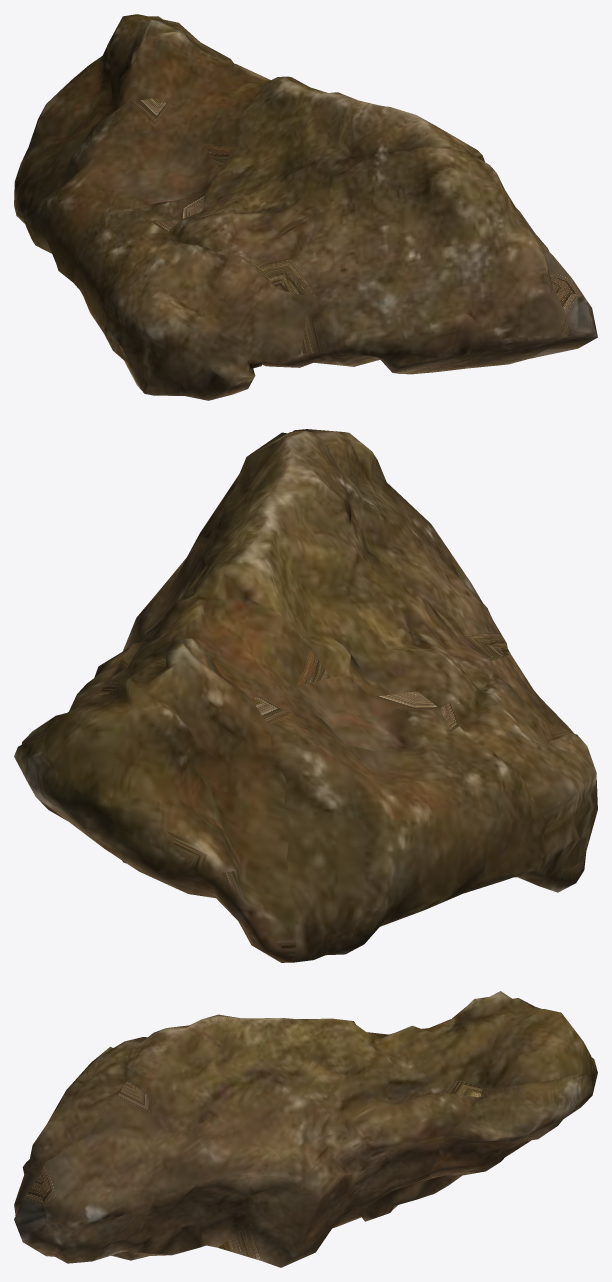
File: verdant-rock-shelf.glb
3 views of the same model, one above another, from view 1: azimuth 30°, elevation 25°; view 2: azimuth 150°, elevation 25°; view 3: azimuth 270°, elevation 25° (orthographic). The views are drawn at different scales.
Visible parts, largest first — view 1: verdant-rock-shelf-0; view 2: verdant-rock-shelf-0; view 3: verdant-rock-shelf-0.
Part boxes in pixels (x1,y1,x2,y2): verdant-rock-shelf-0: (14, 14, 597, 400); verdant-rock-shelf-0: (14, 429, 597, 962); verdant-rock-shelf-0: (14, 991, 597, 1267).
Size of the model in its own units: 1.12 by 0.7363 by 1.68.
1 material, 1 textured.
